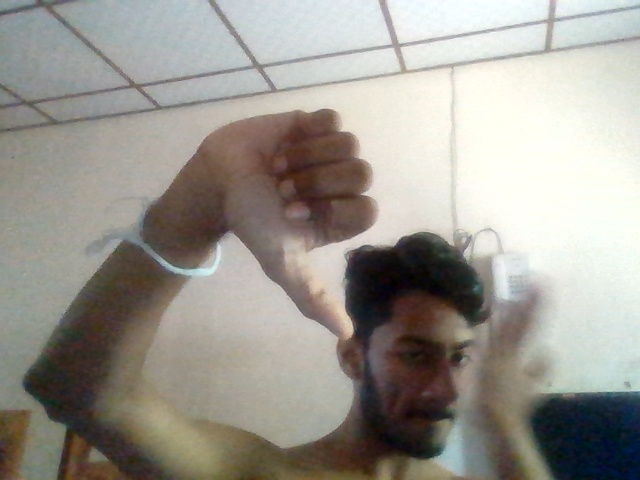ThumbsDown: (201, 103, 379, 340)
